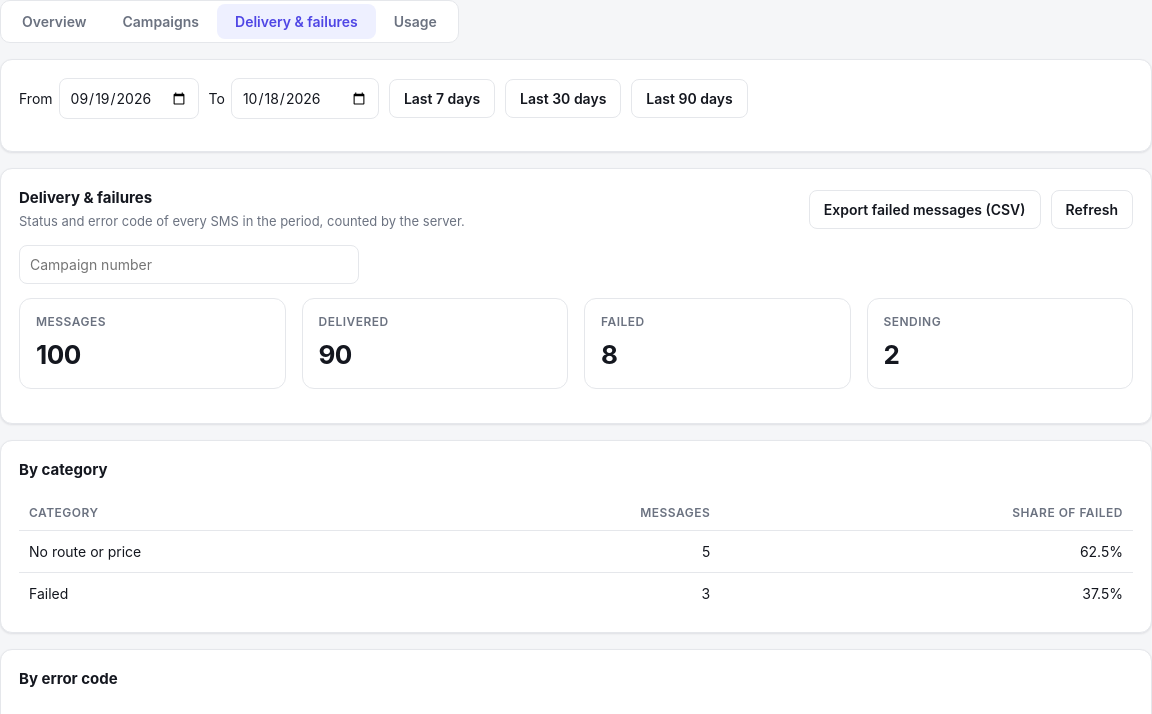
Test: reports — failures and usage › 10d data of the previous filter is never shown under a new filter that failed
In the field labelled "Campaign number": {"x": 189, "y": 264} [19, 245, 359, 284], type "99"
Then press Enter
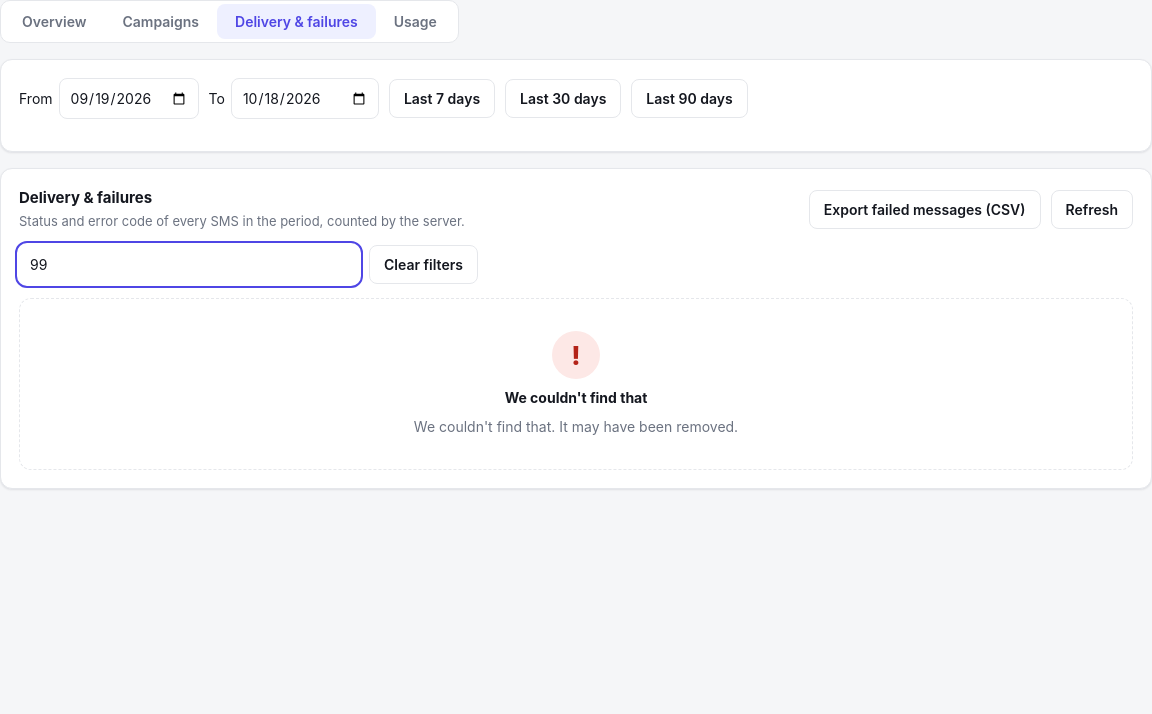
Expected: the text "We couldn't find that" is shown, [505, 387, 647, 408]
Expected: the heading "By error code" is gone
